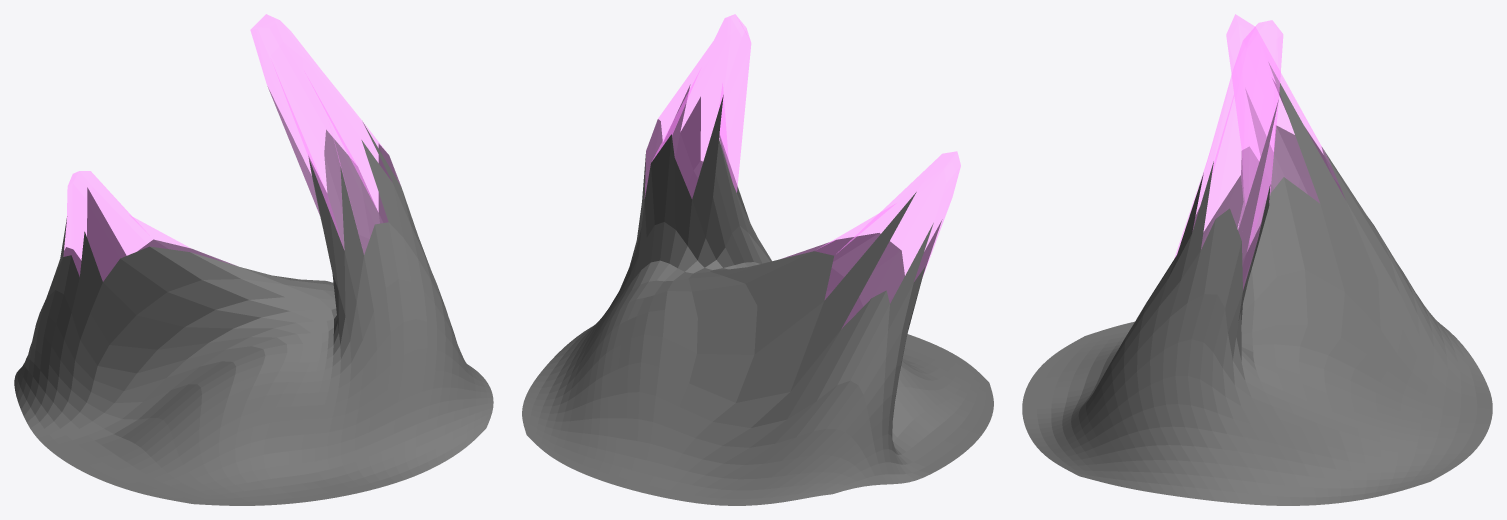
File: CaveThing3.fbx
3 views of the same model, side by side, from view 1: azimuth 30°, elevation 25°; view 2: azimuth 150°, elevation 25°; view 3: azimuth 270°, elevation 25° (orthographic). The views are drawn at different scales.
Visible parts, largest first — view 1: CaveThing3; view 2: CaveThing3; view 3: CaveThing3.
Part boxes in pixels (<box>): CaveThing3: <box>14,14,493,505</box>; CaveThing3: <box>522,14,993,505</box>; CaveThing3: <box>1022,14,1492,505</box>.
Size of the model in its own units: 300 by 279 by 298.
